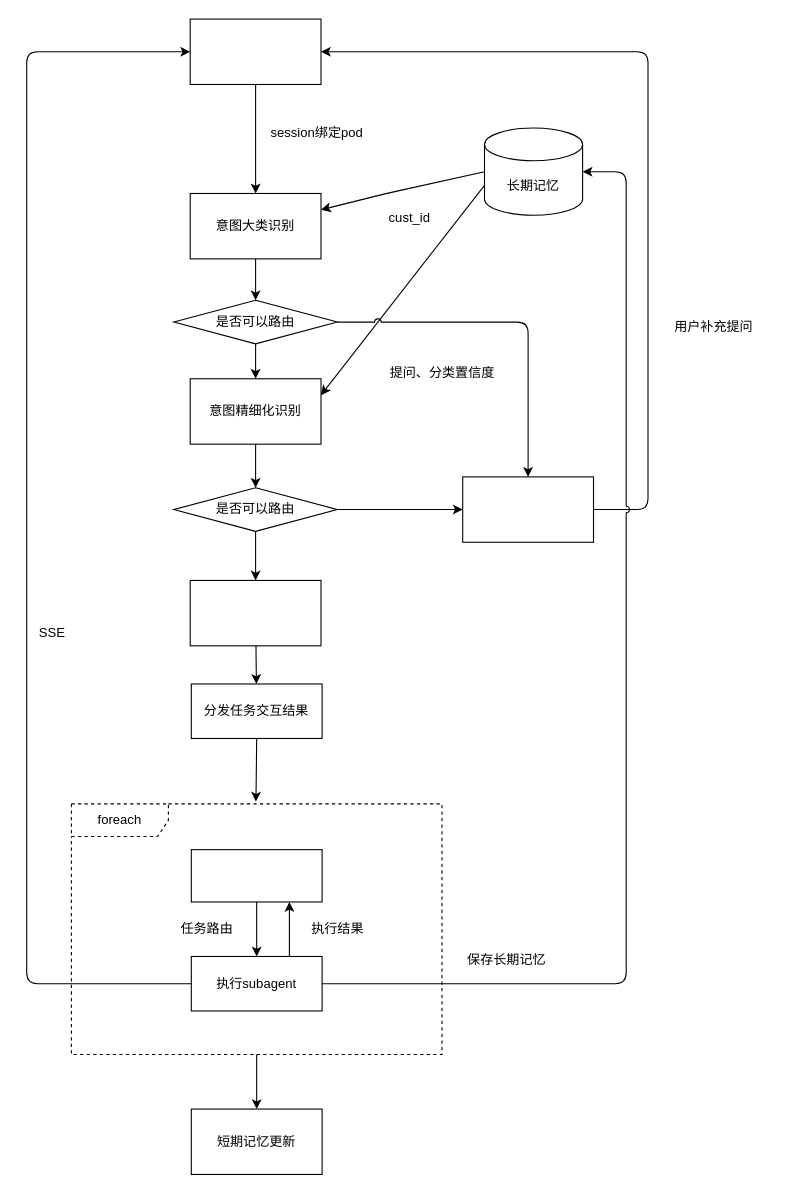
Image size: 787x1194. Some labels were removed from this diagram. The shapes that lost their labels are listed below. From the top down, each one's centre as x and y in pixels, then its label:
point 255,51: 发起命令
point 528,509: 兜底subagent
point 255,612: 精细化意图 任务清单组建
point 256,875: task
